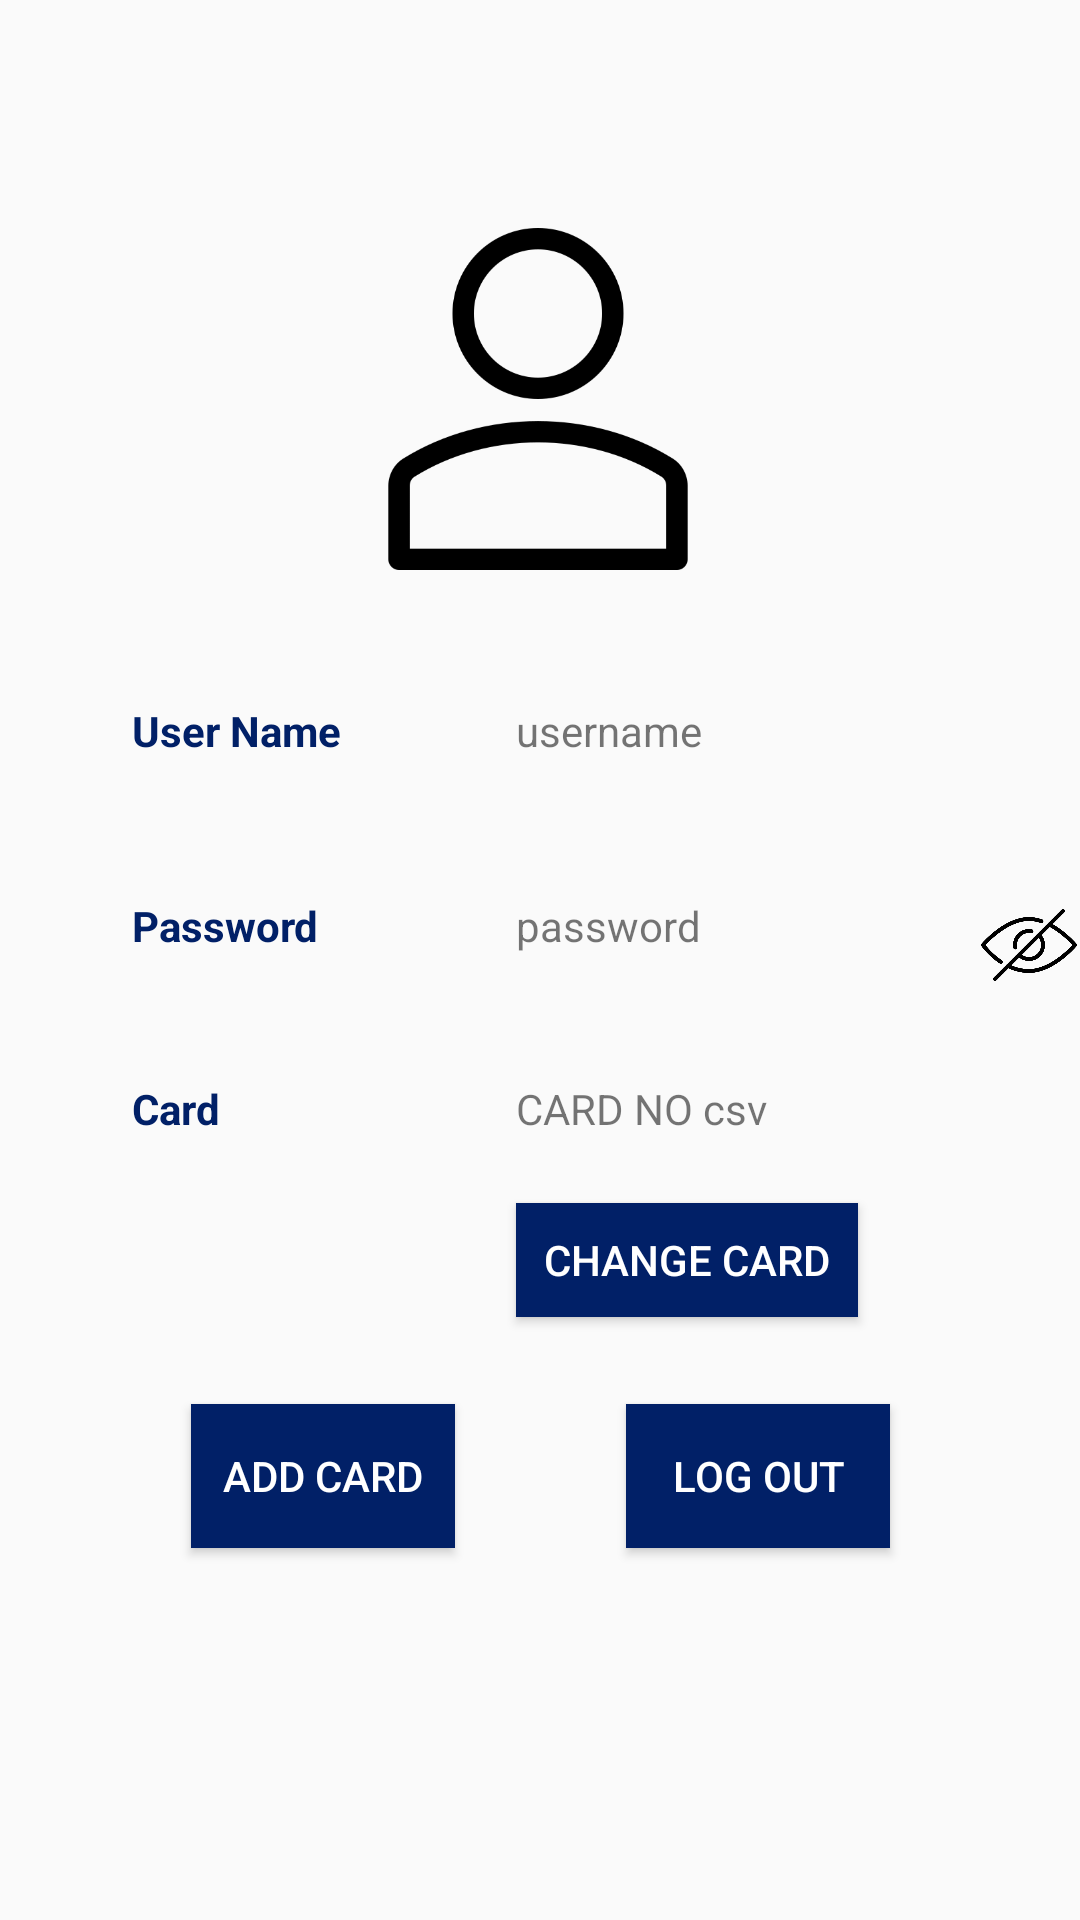

Named icons in this screenshot (1080 × 1920) and their centers, (x=x, y=y):
user profile: (x=538, y=399)
